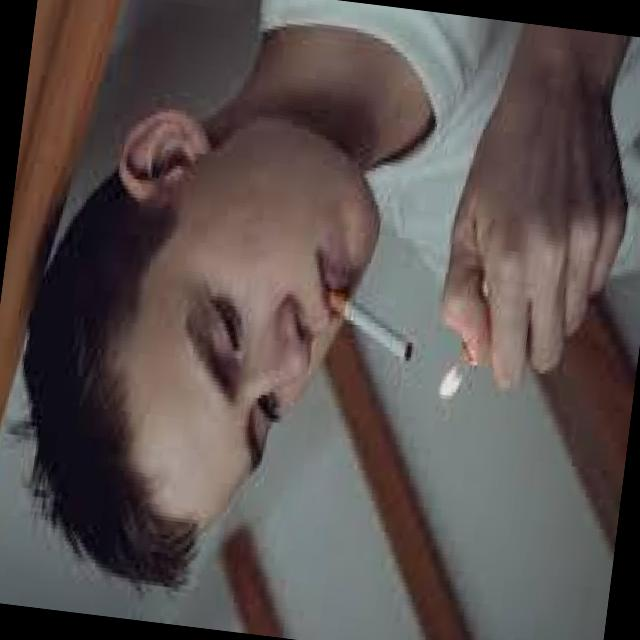smoke: (312, 283, 431, 388)
